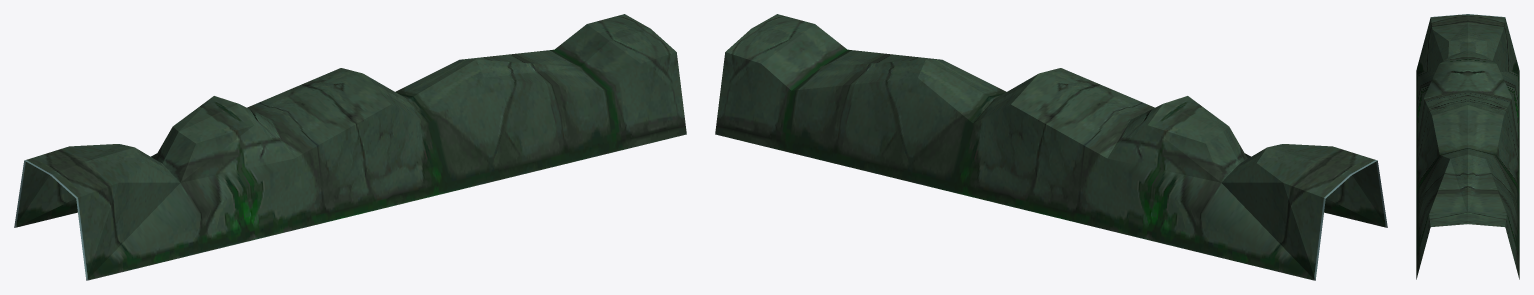
The model's file is stemple_cap_straight_02.fbx.
3 views of the same model, side by side, from view 1: azimuth 30°, elevation 25°; view 2: azimuth 150°, elevation 25°; view 3: azimuth 270°, elevation 25° (orthographic). The views are drawn at different scales.
Visible parts, largest first — view 1: sunken_tileset/sunken_quarter02a_mat; view 2: sunken_tileset/sunken_quarter02a_mat; view 3: sunken_tileset/sunken_quarter02a_mat.
Boxes of the visible parts, left/top/right/bottom form: sunken_tileset/sunken_quarter02a_mat: left=14, top=14, right=686, bottom=280; sunken_tileset/sunken_quarter02a_mat: left=715, top=14, right=1387, bottom=280; sunken_tileset/sunken_quarter02a_mat: left=1416, top=14, right=1519, bottom=279.
Size of the model in its own units: 4 by 0.6672 by 0.8328.
